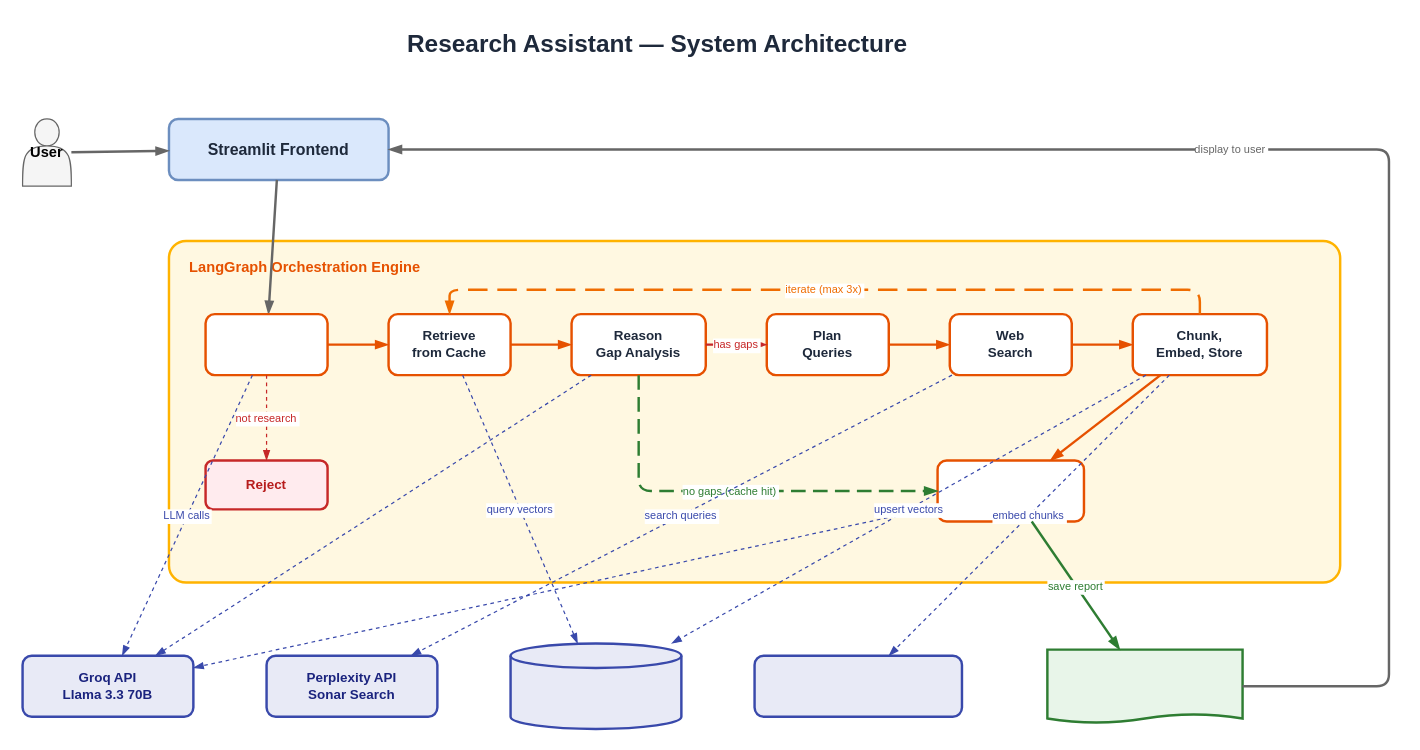
Image size: 1420x750. Some labels were removed from this diagram. Here are the shapes that lost their labels. From the top down, the centre of each, then its label:
[266,344]: Classify Intent
[1010,490]: Synthesize Report
[595,686]: Pinecone Vector Database
[858,685]: SentenceTransformer all-MiniLM-L6-v2
[1144,685]: Markdown Report outputs/reports/
